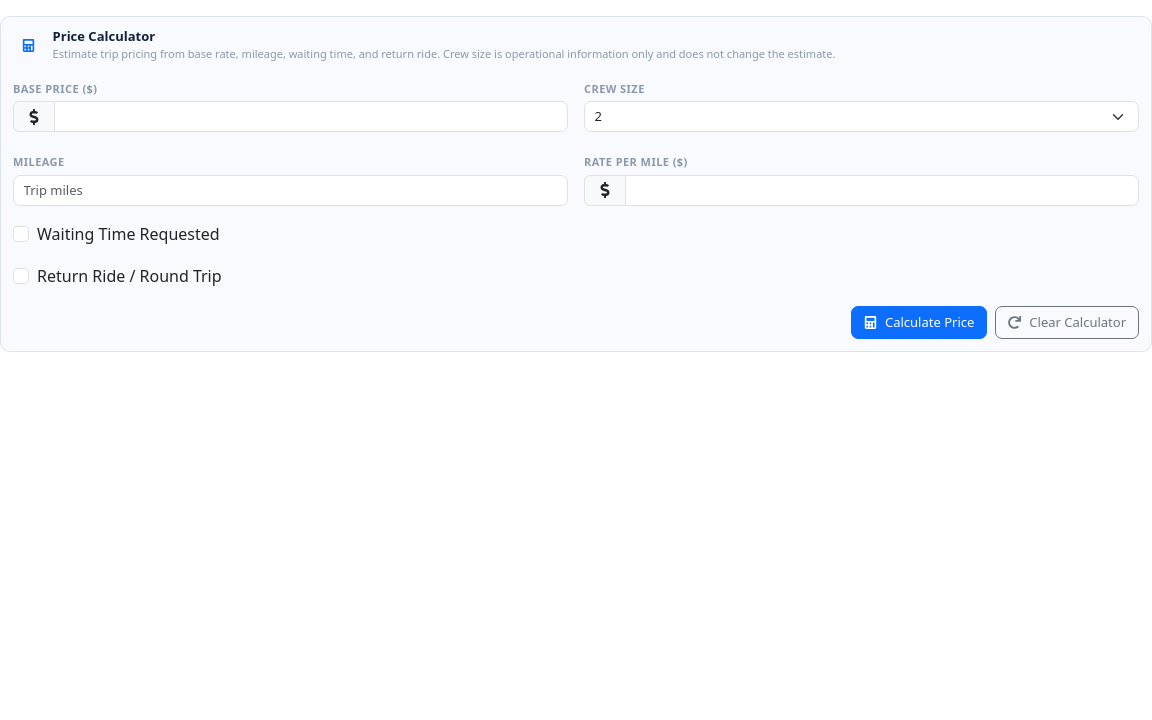
Test: PriceCalculator (component) › clears the result and the form on reset
The image size is (1152, 720).
Step 1. Type "100" into the number field labelled "Base Price ($)" → point(311, 117), box [54, 101, 568, 132]
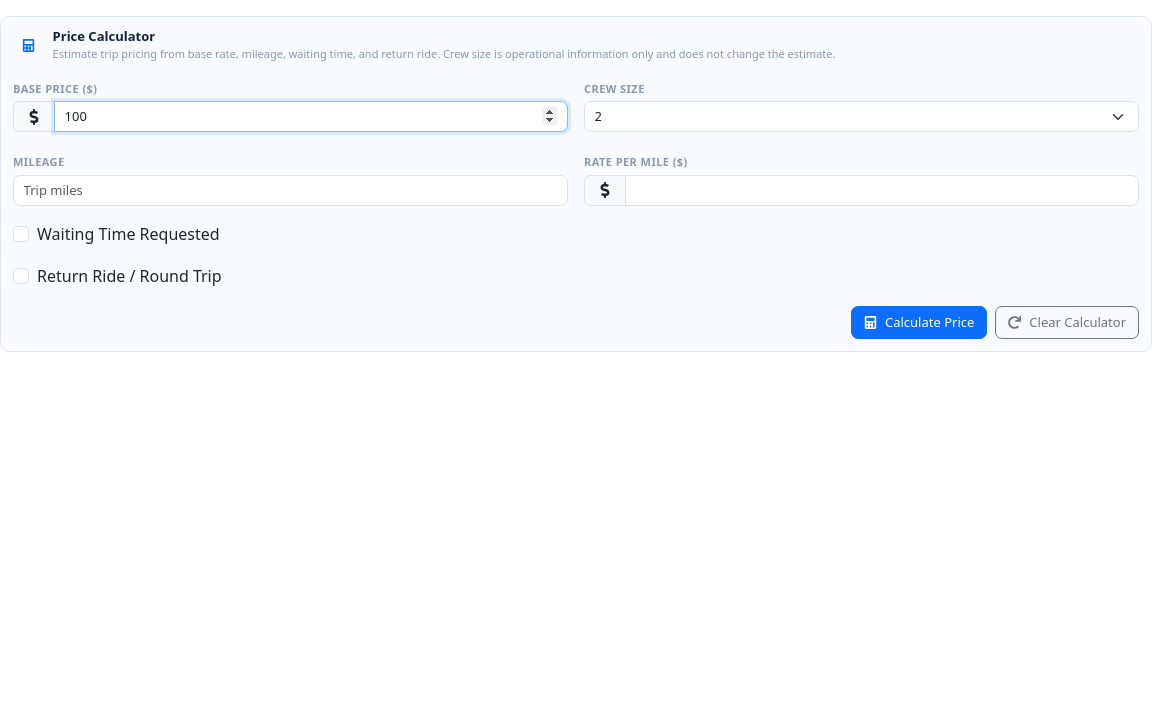
Step 2. Type "10" into the number field labelled "Mileage" → point(290, 190), box [13, 175, 568, 206]
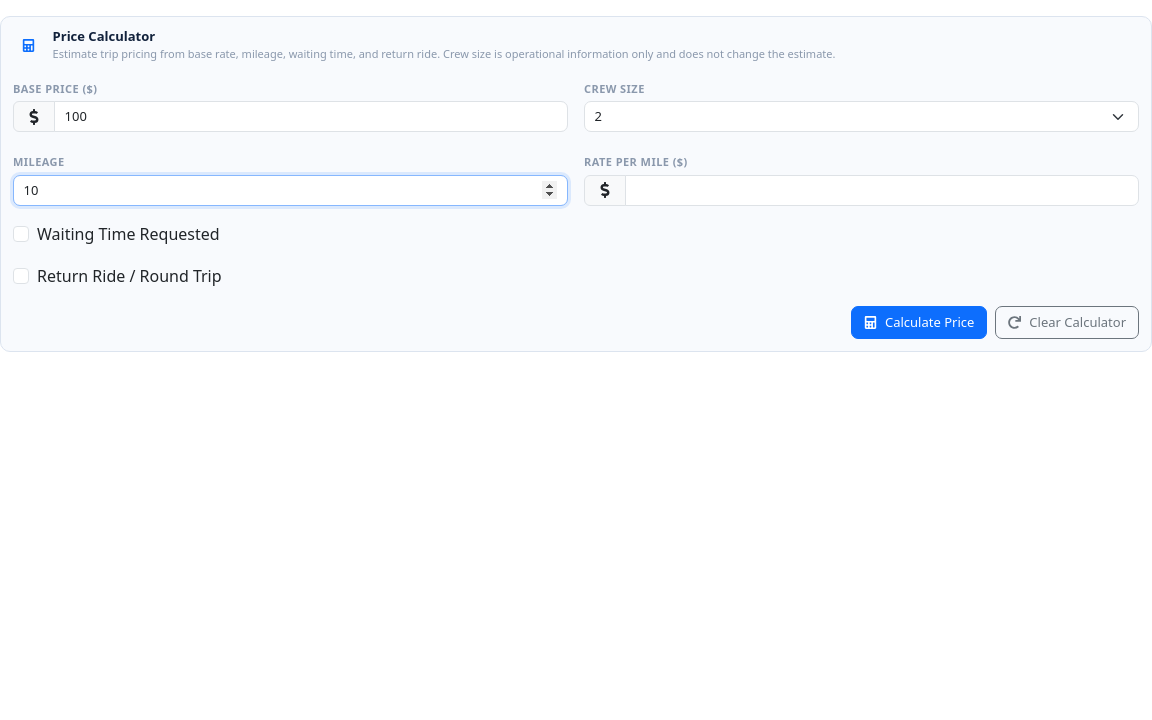
Step 3. Type "2" into the number field labelled "Rate per Mile ($)" → point(882, 190), box [625, 175, 1139, 206]
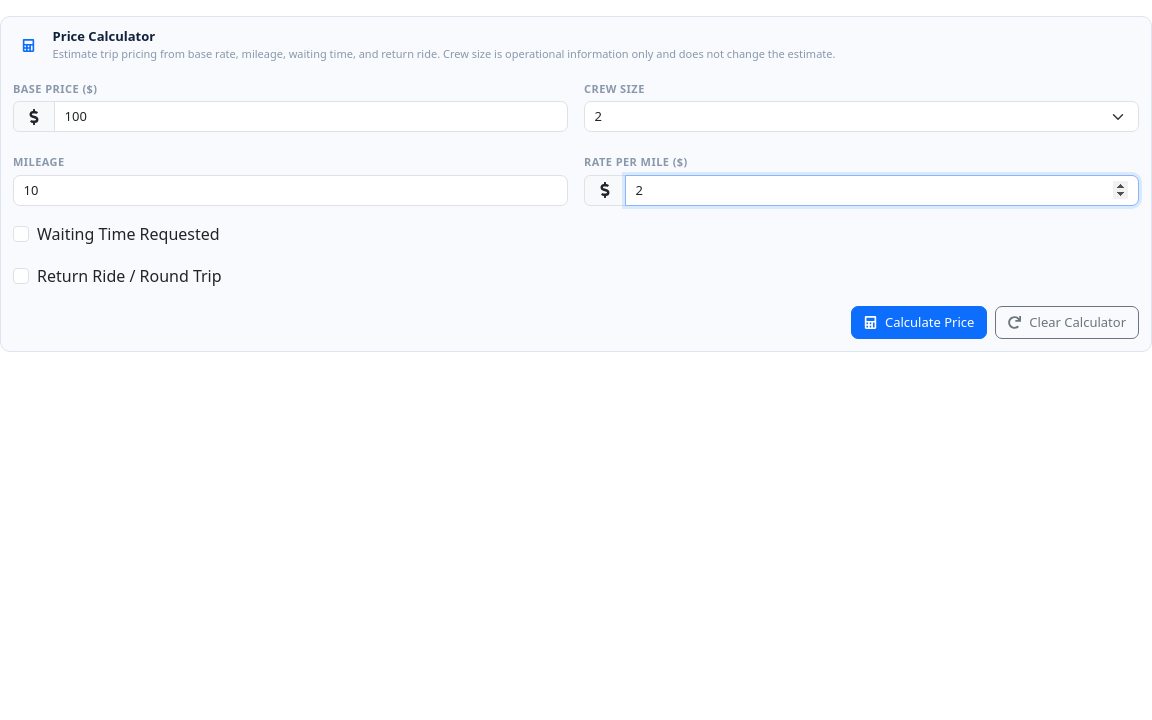
Step 4. Click the button "Calculate Price" → point(919, 323), box [851, 306, 987, 339]
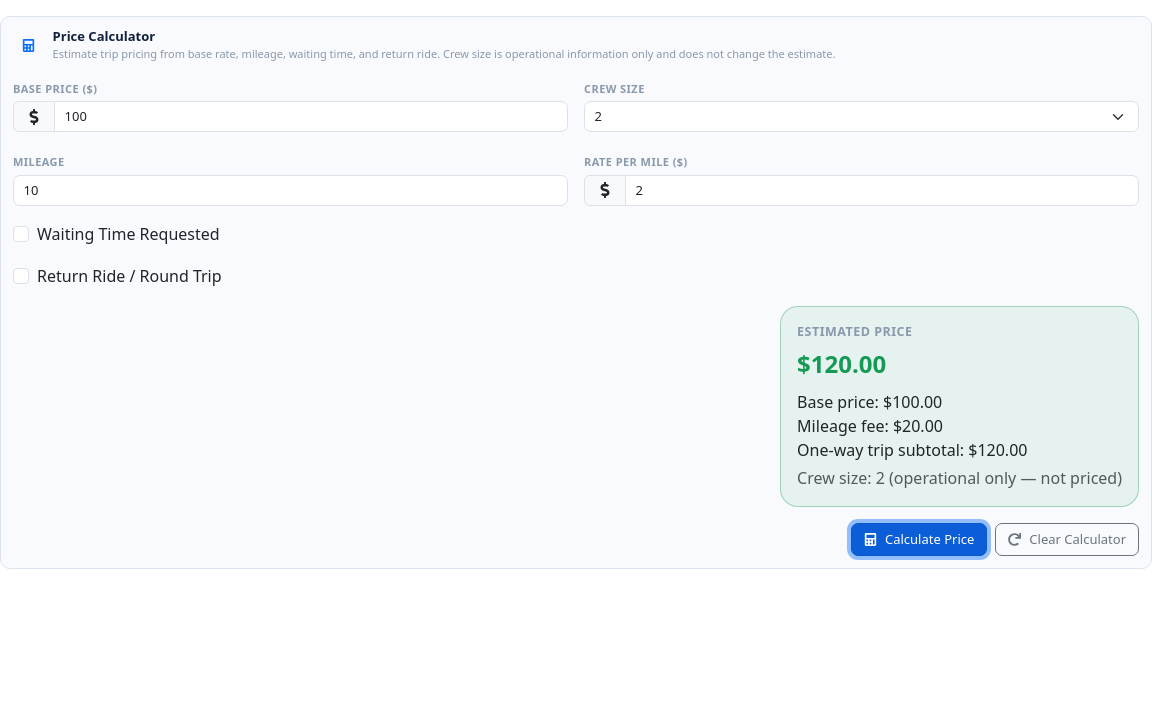
Expected: the text "$120.00" is shown, [797, 347, 886, 380]
Step 5. Click the button "Clear Calculator" → point(1067, 539), box [995, 523, 1139, 556]
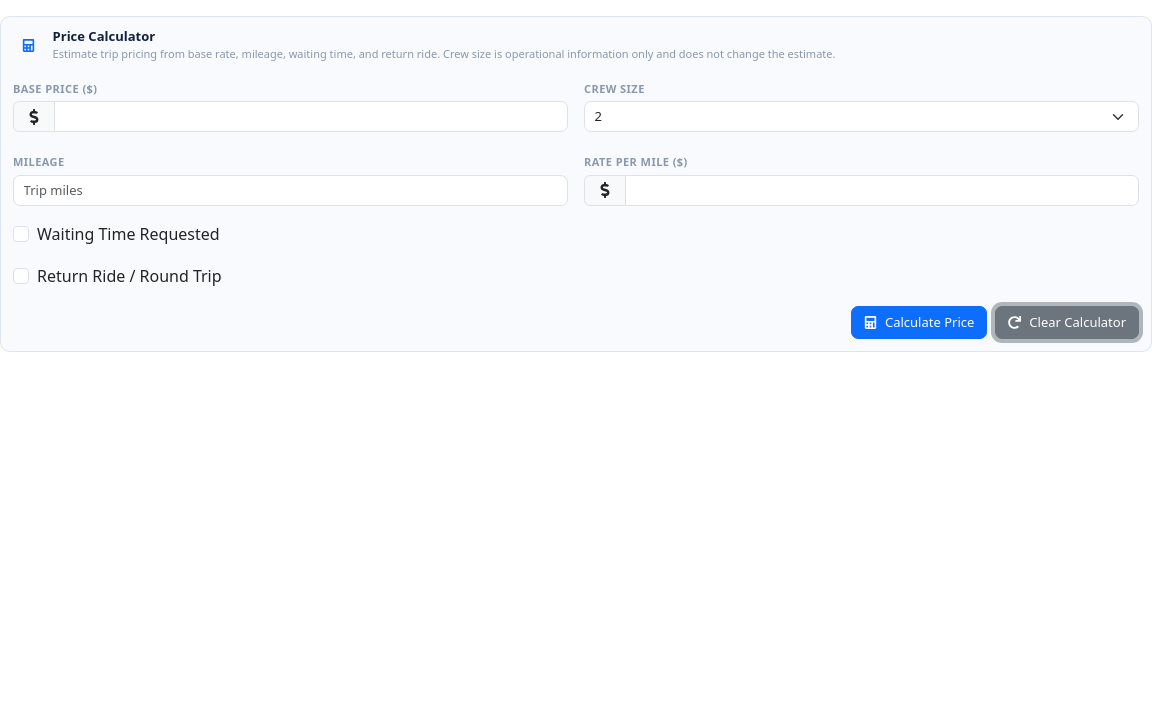
Expected: the text "Estimated Price" is gone
